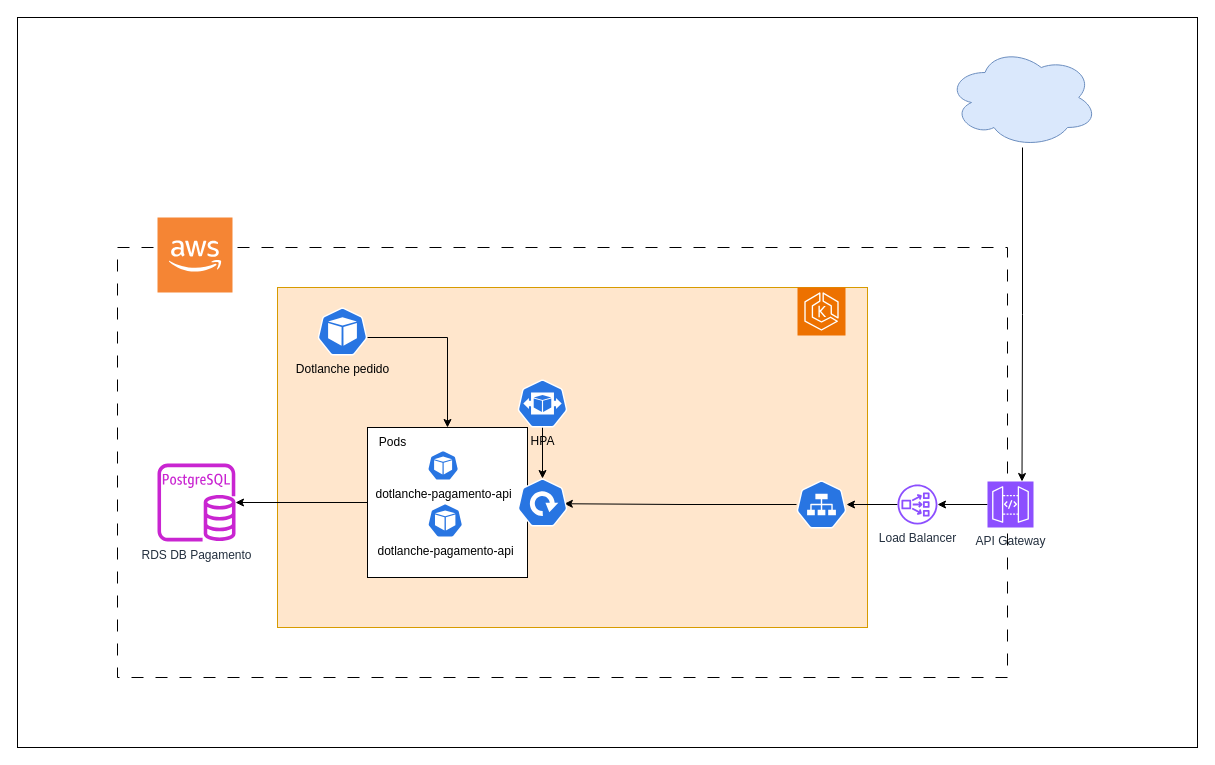
Image size: 1215x765. Some labels were removed from this diagram. Each missing label, with the box of its shape:
Deployment: (516, 478, 568, 526)
EKS: (796, 286, 846, 336)
Provedores de Pagamento: (946, 46, 1098, 148)
Service: (796, 480, 846, 528)
